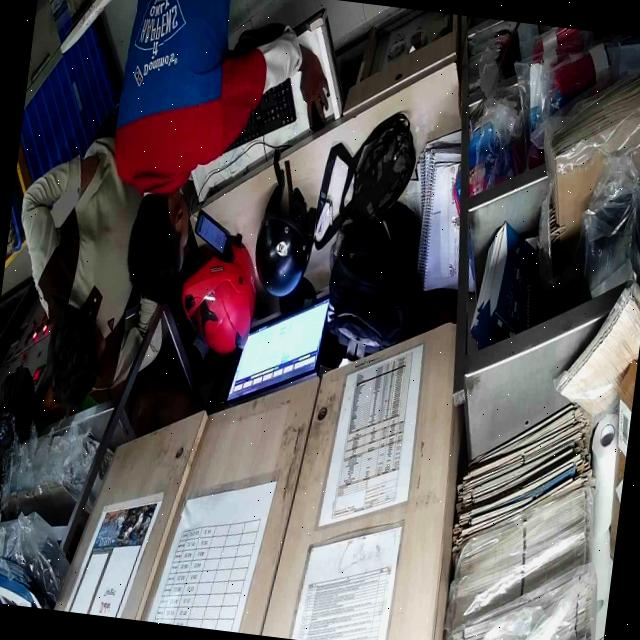helmet: (180, 237, 256, 355), (255, 181, 316, 295)
no_helmet: (126, 185, 188, 307)
